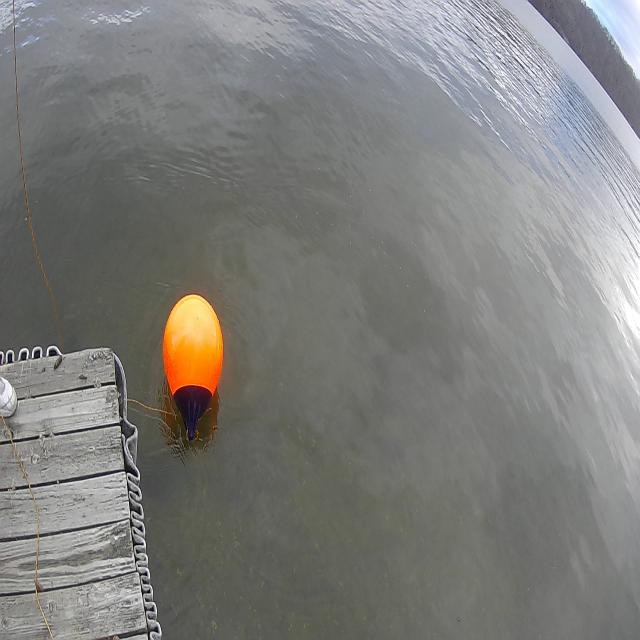Buoy: (160, 288, 226, 406)
